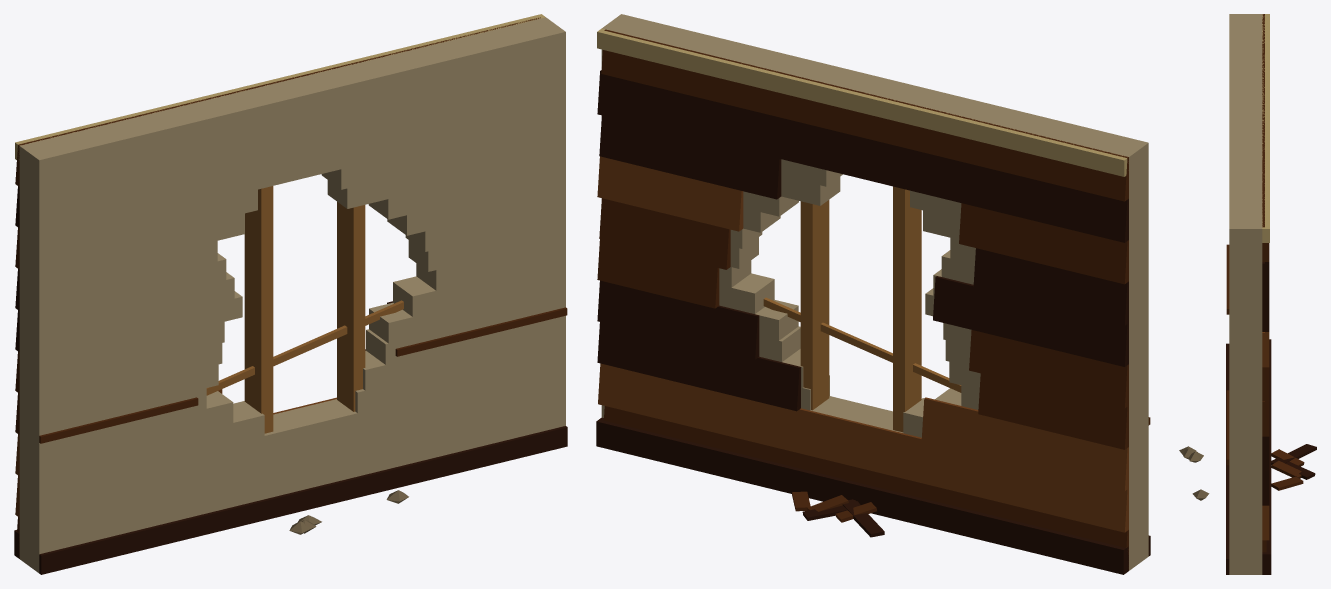
The model's file is SM_Bld_Wall_Damaged.glb.
3 views of the same model, side by side, from view 1: azimuth 30°, elevation 25°; view 2: azimuth 150°, elevation 25°; view 3: azimuth 270°, elevation 25° (orthographic). The views are drawn at different scales.
Visible parts, largest first — view 1: SM_Bld_Wall_Damaged; view 2: SM_Bld_Wall_Damaged; view 3: SM_Bld_Wall_Damaged.
Part boxes in pixels (x1,y1,x2,y2): SM_Bld_Wall_Damaged: [14, 14, 567, 574]; SM_Bld_Wall_Damaged: [596, 14, 1150, 574]; SM_Bld_Wall_Damaged: [1179, 14, 1316, 574].
Bounding box in the file's own units: 4 × 3.01 × 1.08.
1 material, 1 textured.
